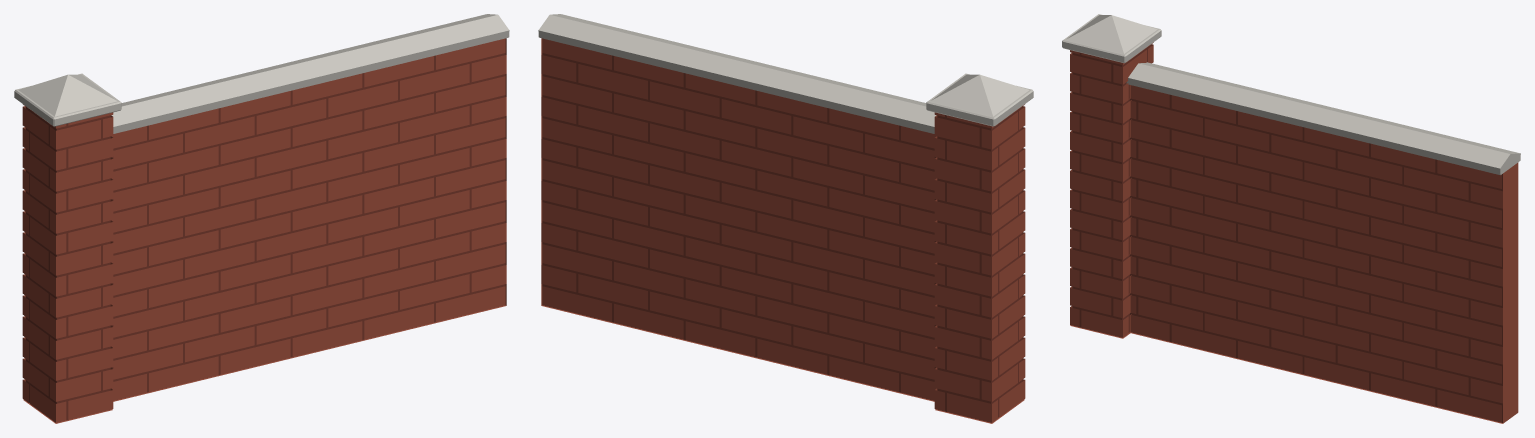
File: SC_Bld_Villa_Fence_Wall_3m.gltf
The picture shows the model from 3 angles, left to right: view 1: azimuth 30°, elevation 25°; view 2: azimuth 150°, elevation 25°; view 3: azimuth 330°, elevation 25°; orthographic projection. The views are drawn at different scales.
Parts seen in each view (by area): view 1: SC_Bld_Villa_Fence_Wall_3m; view 2: SC_Bld_Villa_Fence_Wall_3m; view 3: SC_Bld_Villa_Fence_Wall_3m.
Boxes of the visible parts, bbox=[...] form: SC_Bld_Villa_Fence_Wall_3m: bbox=[14, 14, 509, 423]; SC_Bld_Villa_Fence_Wall_3m: bbox=[538, 14, 1033, 423]; SC_Bld_Villa_Fence_Wall_3m: bbox=[1062, 14, 1520, 423].
Size of the model in its own units: 3.24 by 2.2 by 0.48.
Materials: 1 (1 with a texture image).
